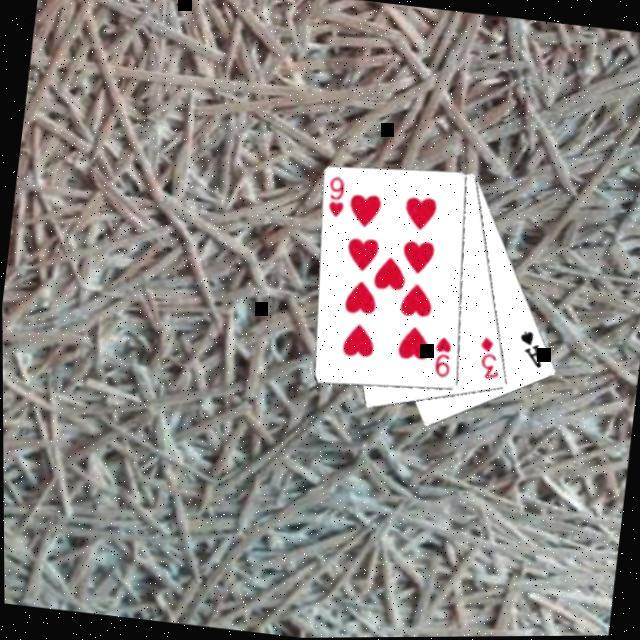3D: (474, 336, 506, 386)
9H: (430, 336, 457, 384), (324, 175, 351, 223)
AS: (514, 330, 550, 374)
